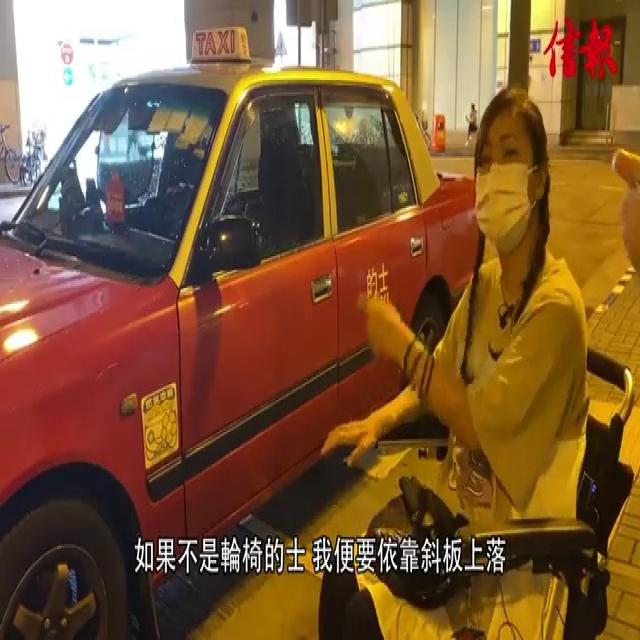wheelchairs: (368, 291, 639, 640)
